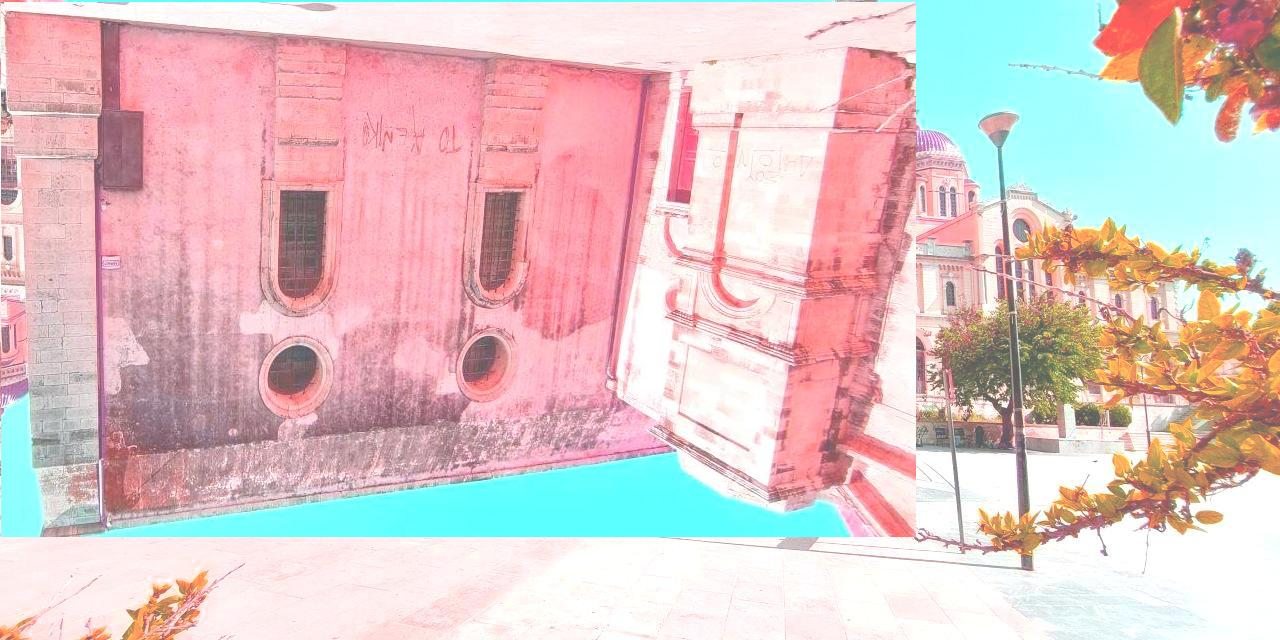Agia Aikaterini: (2, 3, 917, 538)
